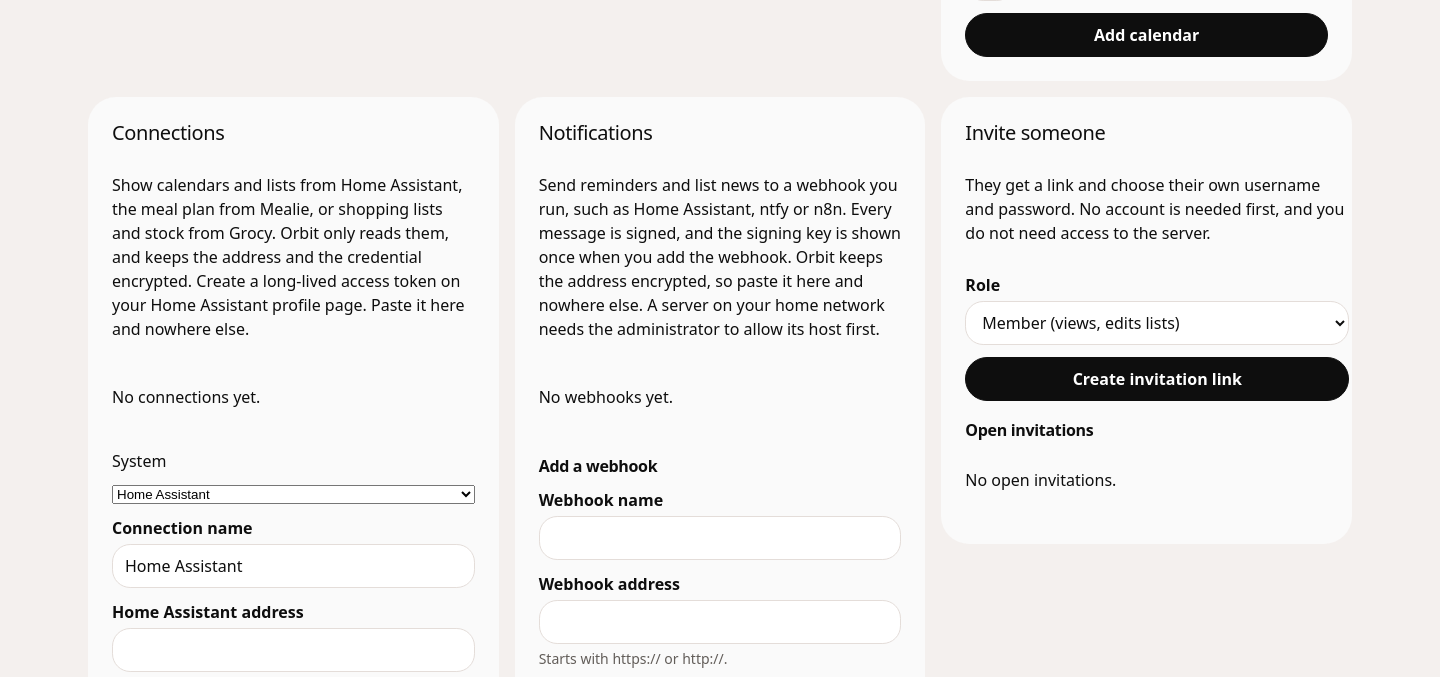
invitations panel › copies the link to the clipboard
The width and height of the screenshot is (1440, 677).
(page scrolled)
Click the button "Create invitation link" at (1157, 378), box [965, 356, 1349, 400]
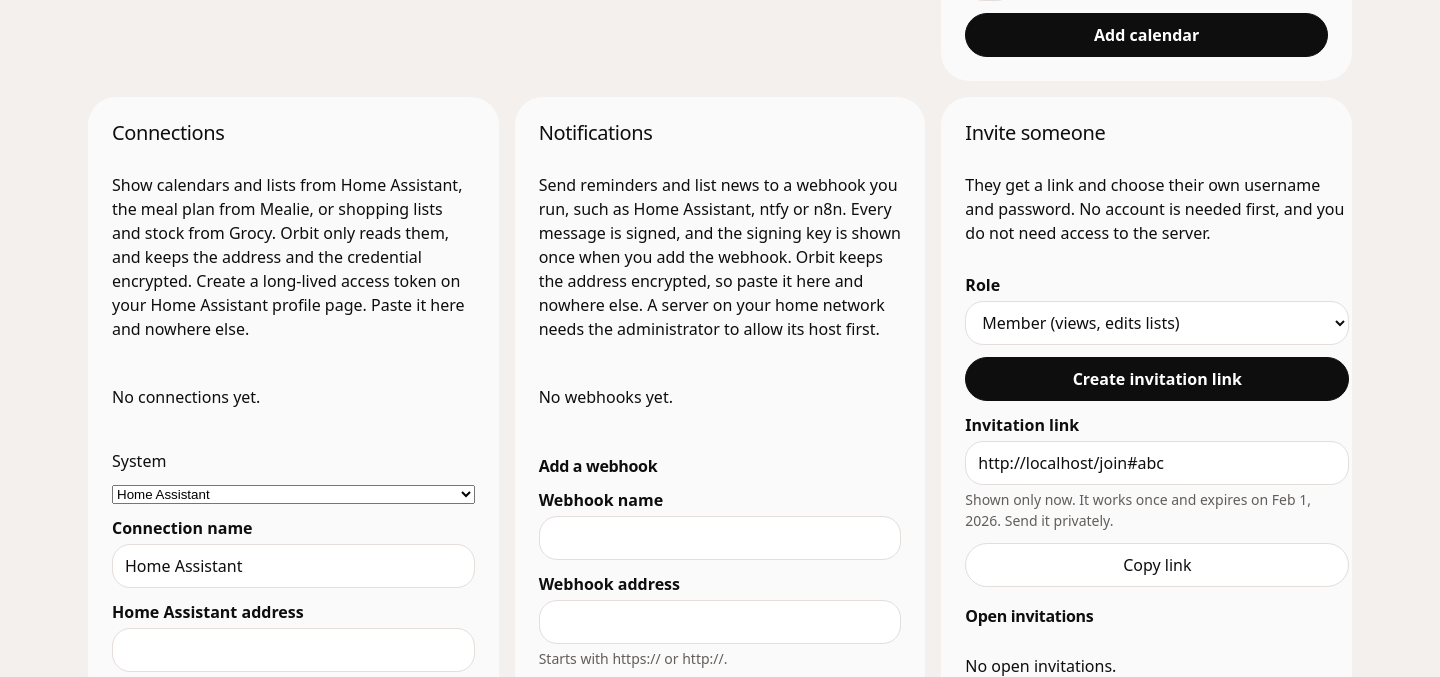
Click the button "Copy link" at (1157, 564), box [965, 542, 1349, 586]
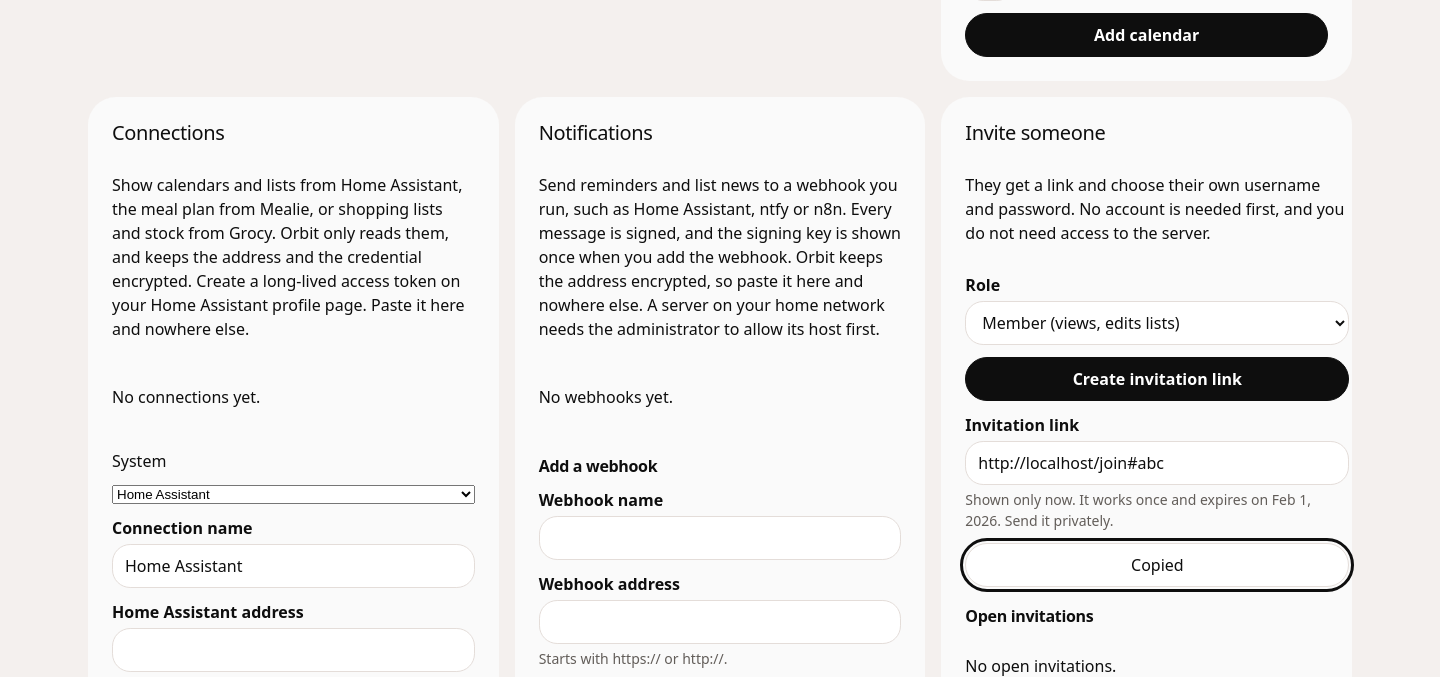
Expected: the button "Copied" is shown, [965, 542, 1349, 586]
